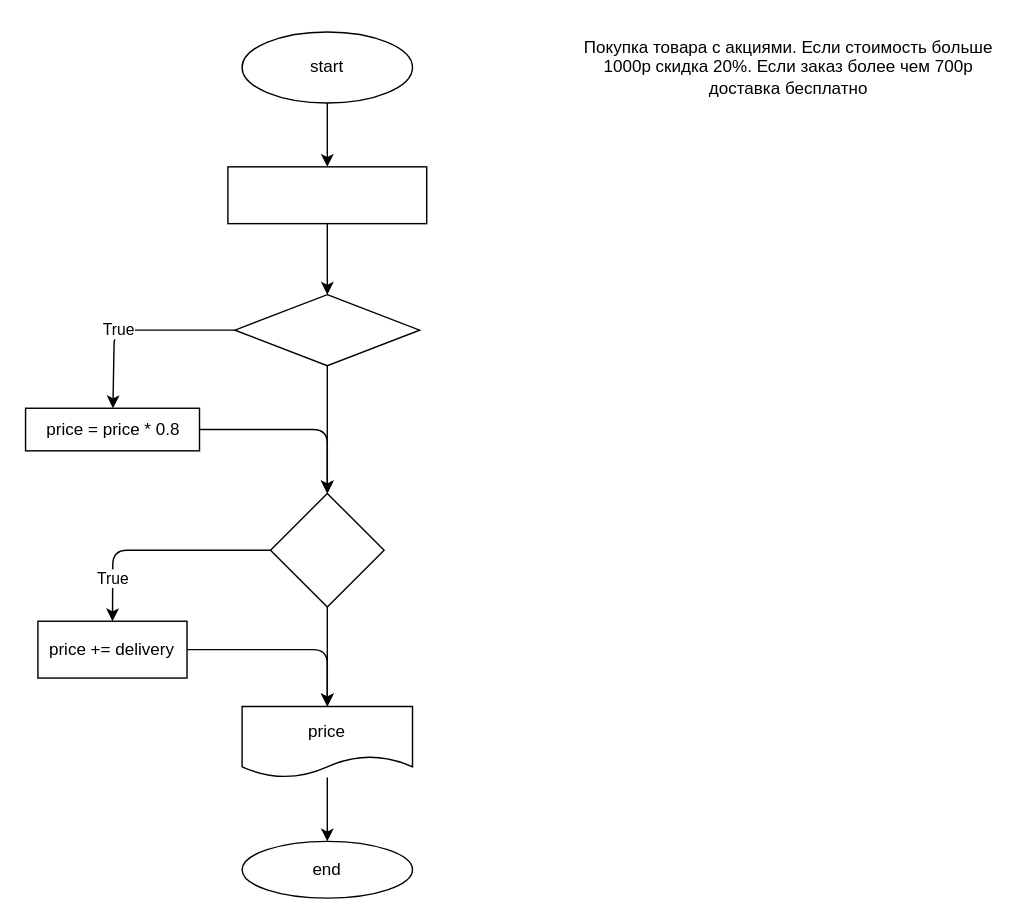
The diagram is 1018 pixels wide and 923 high, and some of its shapes have lost their labels. Each missing label, with the centre of its shape:
price <= 700: point (326, 549)
price > 1000: point (327, 329)
price delivery = 100: point (326, 194)
